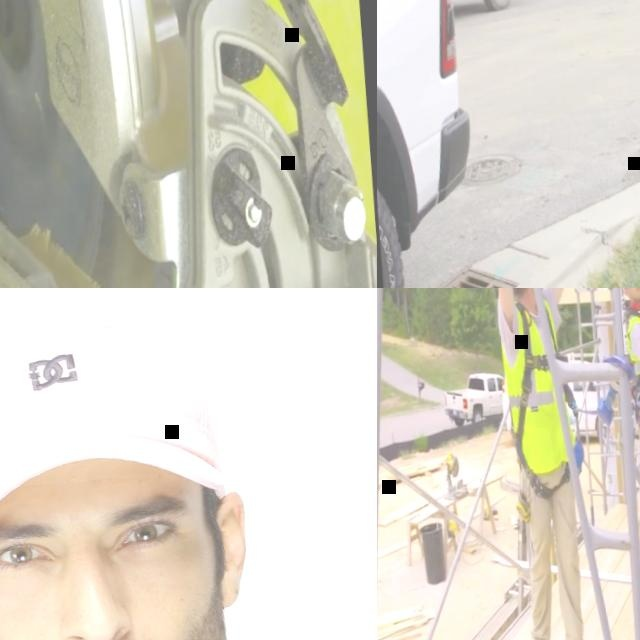NO-Hardhat: (0, 308, 229, 552)
NO-Mask: (627, 288, 640, 297)
Person: (0, 290, 377, 640), (479, 288, 614, 640), (610, 288, 640, 583)
Safety Vest: (497, 297, 580, 475), (623, 297, 640, 398)
vehicle: (377, 0, 491, 288), (499, 351, 638, 444), (442, 370, 508, 426)
